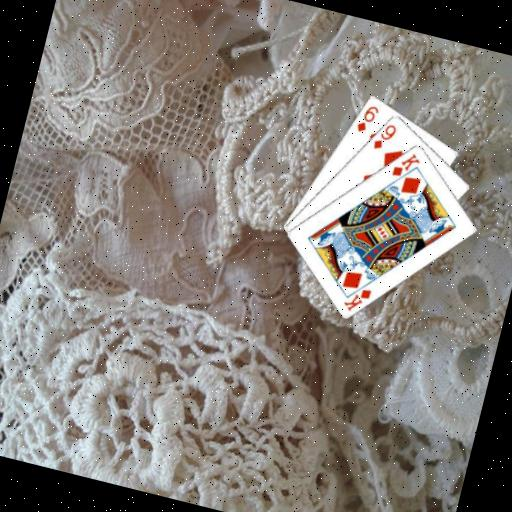6D: (353, 100, 382, 137)
9D: (370, 118, 400, 155)
KD: (387, 146, 423, 183), (339, 281, 374, 317)
